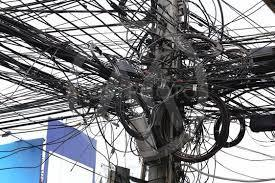wires-only: (0, 14, 275, 166)
